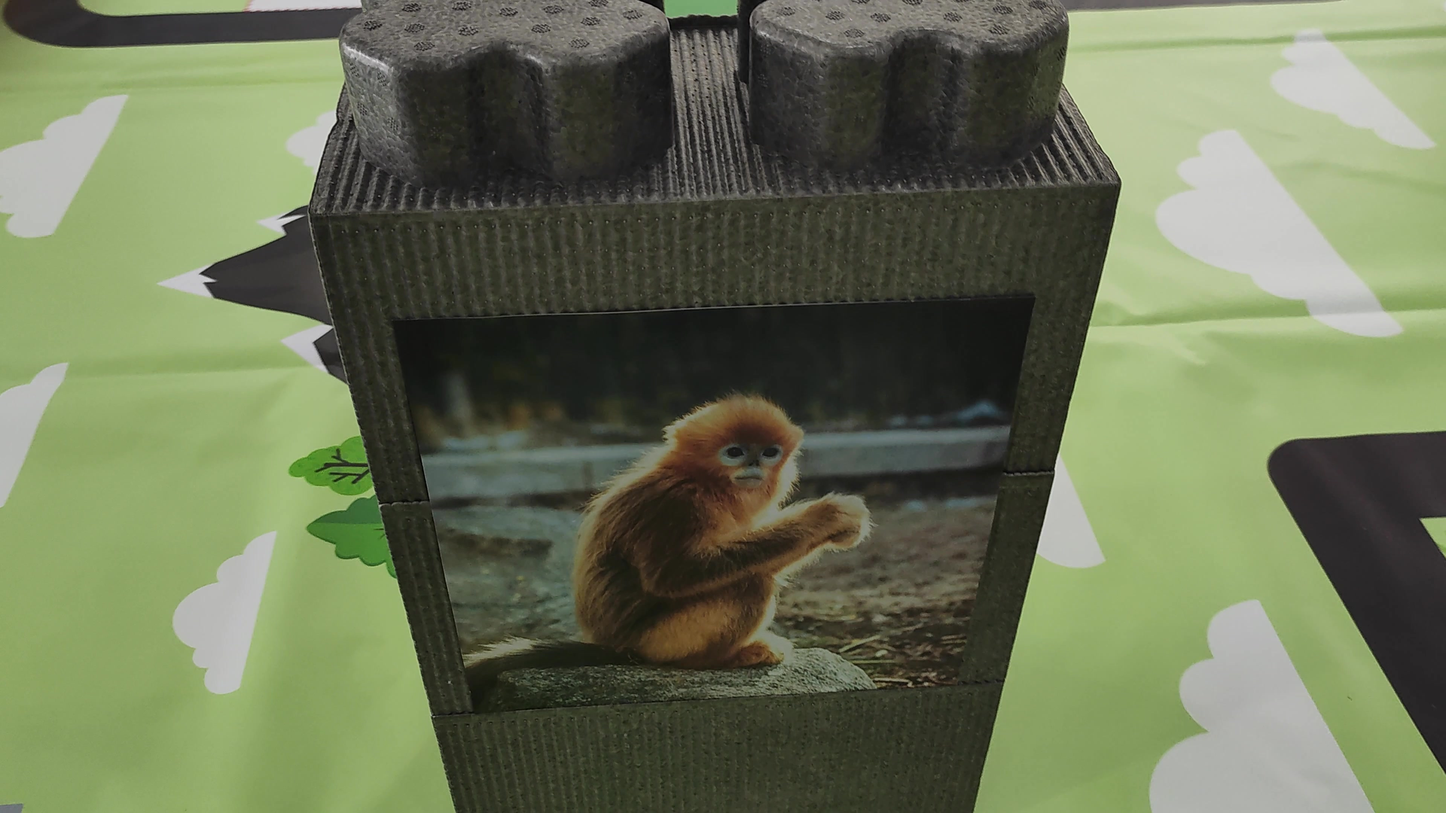monkey: (456, 367, 879, 712)
